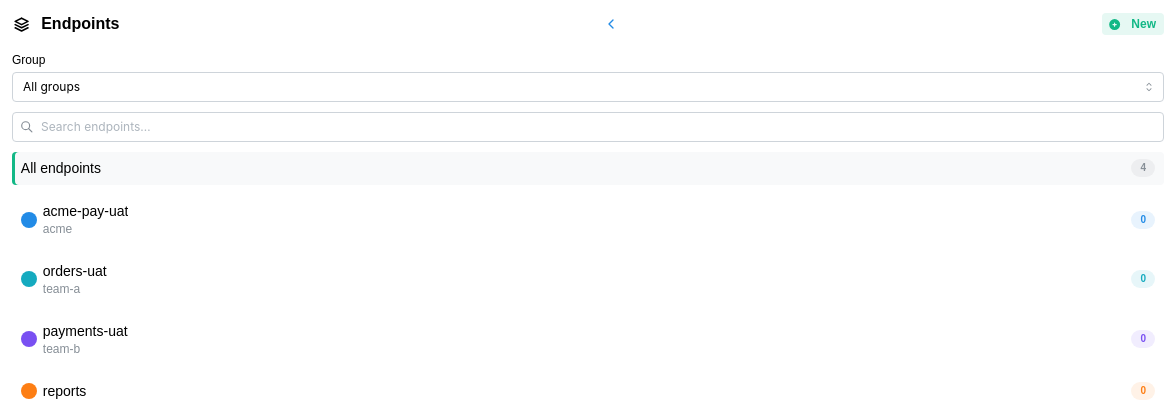
Test case: EndpointRail search › filters by group substring
This screenshot has width=1176, height=417.
Type "team-b" into the field labelled "Search endpoints…".
click(588, 127); type("team-b")  # box x1=12 y1=112 x2=1164 y2=142
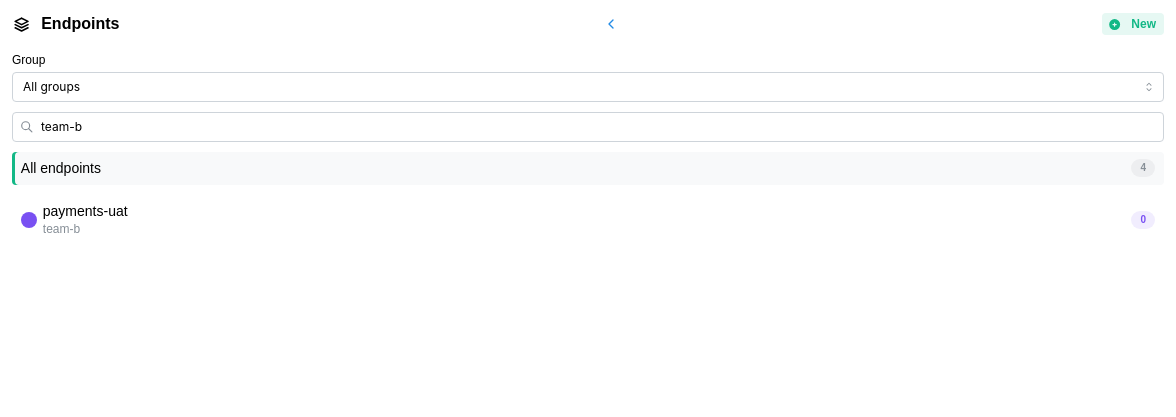
Expected: the button "acme-pay-uat" is gone
Expected: the button "orders-uat" is gone
Expected: the button "reports" is gone
